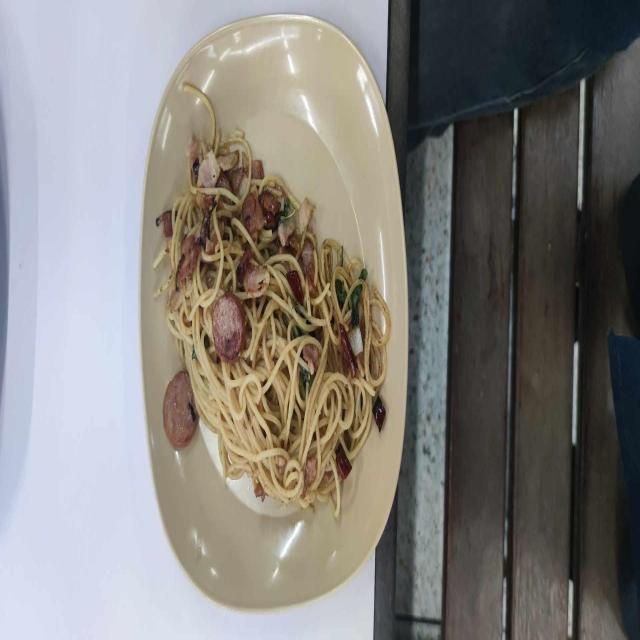-: (139, 14, 411, 612)
carp: (168, 141, 388, 506)
meat: (230, 170, 274, 232), (163, 374, 195, 440), (212, 296, 242, 355), (190, 140, 218, 197), (280, 199, 317, 234), (292, 244, 319, 290), (241, 243, 265, 289), (176, 238, 195, 290), (163, 206, 175, 237), (304, 464, 314, 492), (255, 480, 265, 504), (306, 350, 318, 364), (276, 454, 285, 471)
vegetable: (350, 268, 368, 315), (336, 249, 342, 310), (296, 364, 310, 386)
